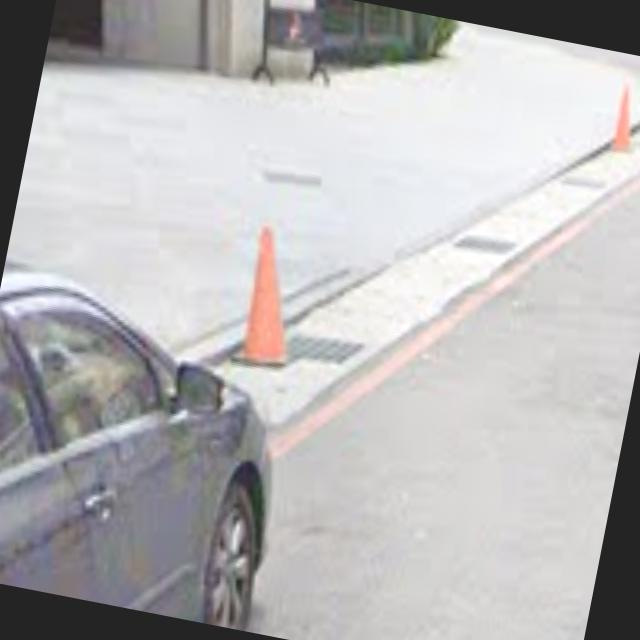cone: (229, 208, 322, 372), (600, 79, 640, 159)
